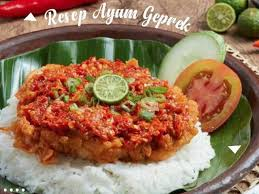ayam_geprek: (20, 52, 207, 166)
